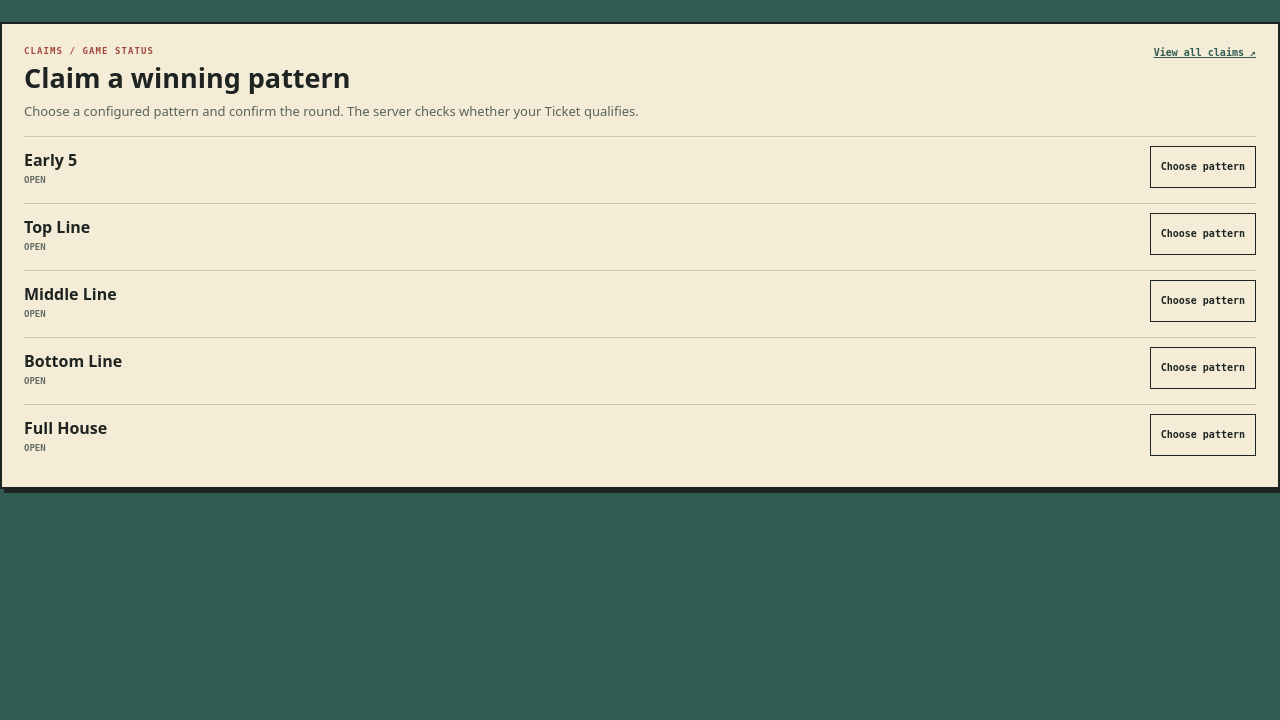
Test: participant claims › submits Early 5 only after confirming the round
The image size is (1280, 720).
Click the button "Choose pattern" in the row of "Early 5": x=1203, y=167 top-left (1150, 146), bottom-right (1256, 188)
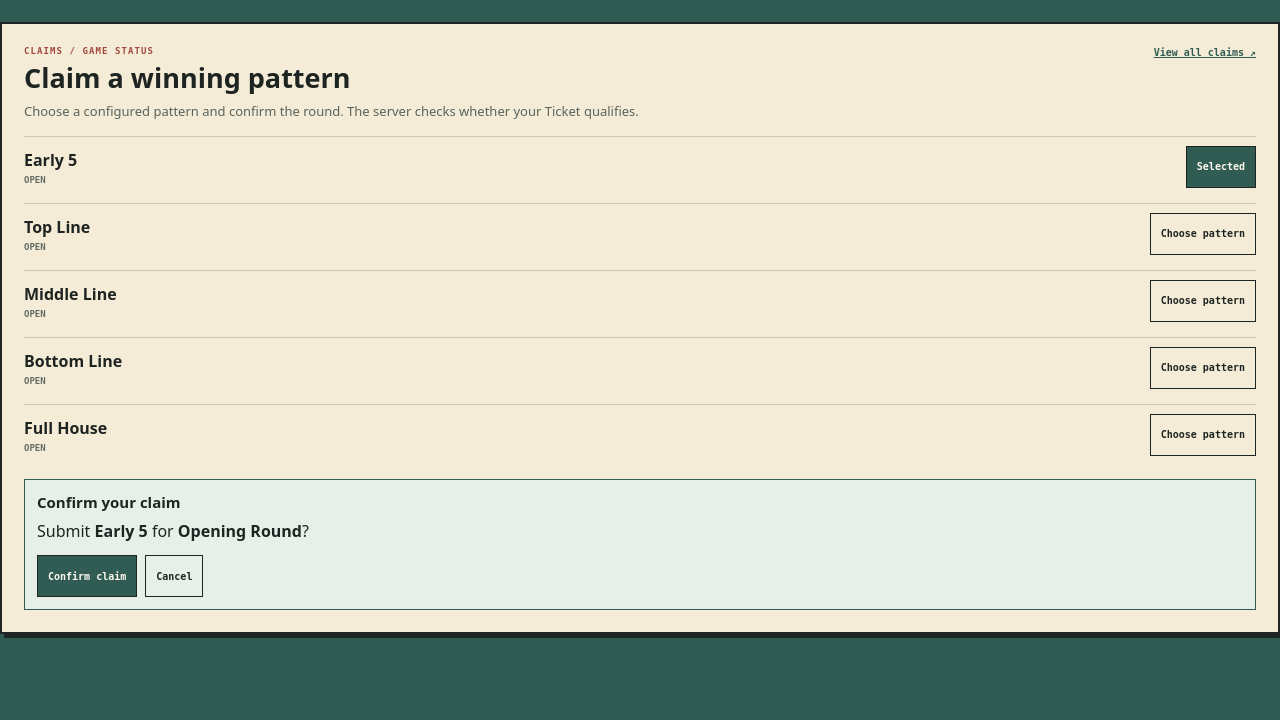
Click the button "Confirm claim": x=87, y=576 top-left (37, 555), bottom-right (137, 597)
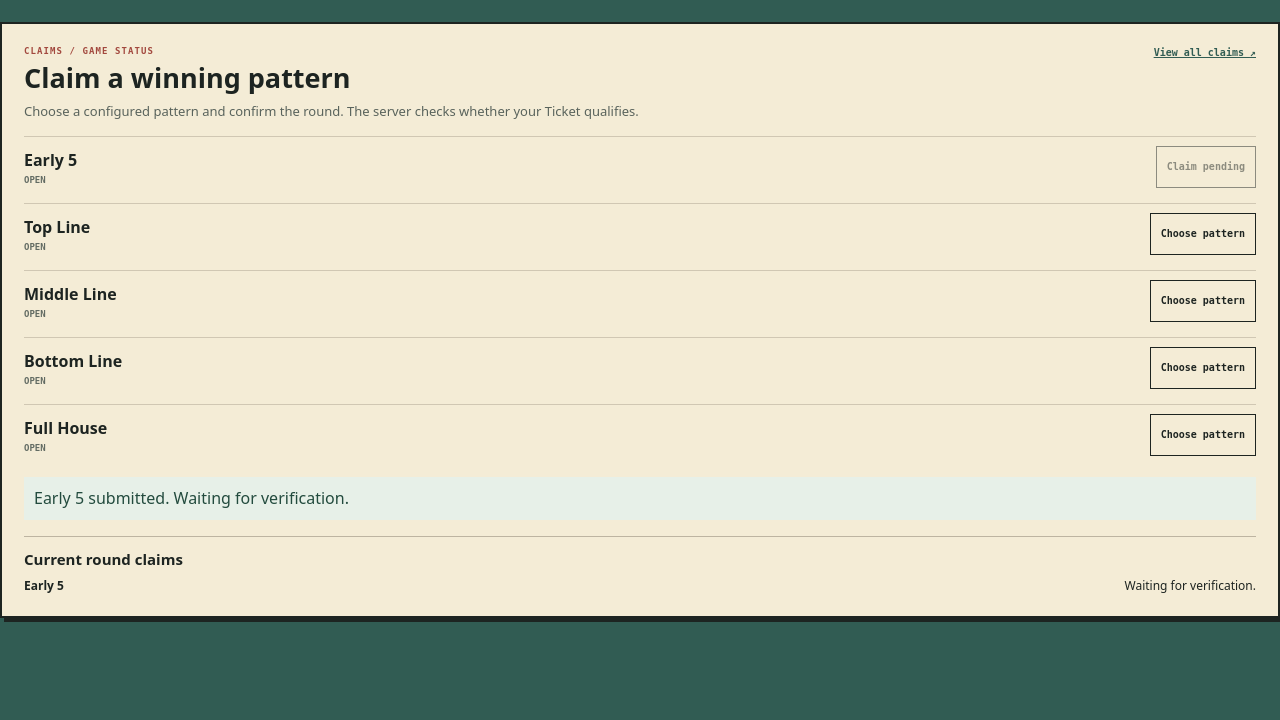
Expected: the message reads "Early 5 submitted. Waiting for verification.", top-left (34, 487), bottom-right (349, 509)
